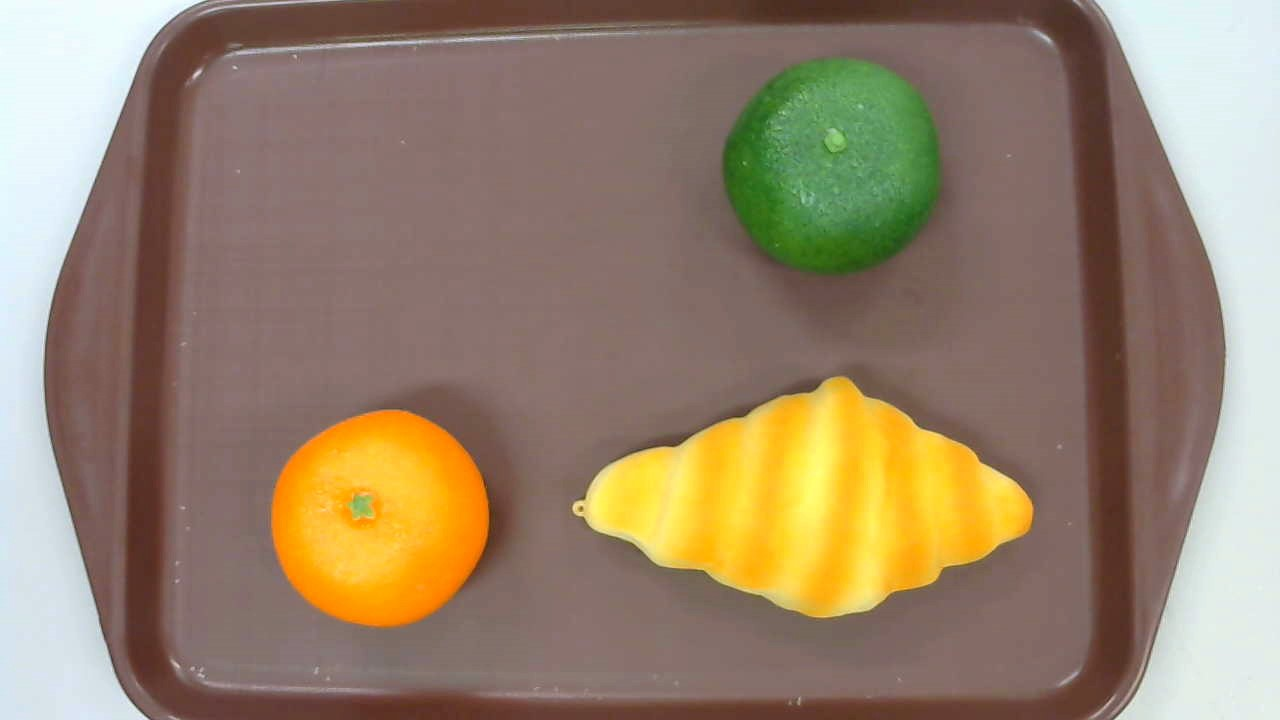croissant: (572, 374, 1035, 620)
green orange: (723, 57, 941, 278)
orange: (271, 409, 490, 628)
